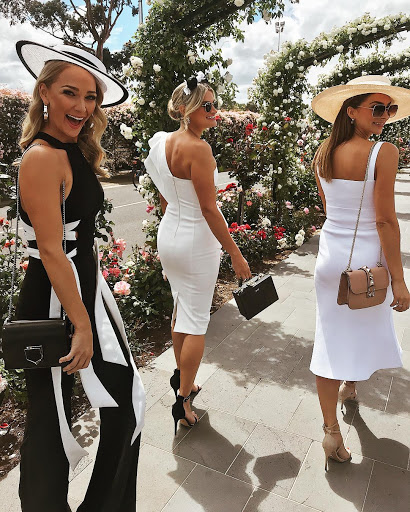Person: (5, 38, 145, 512), (310, 74, 410, 471), (146, 70, 251, 436)
